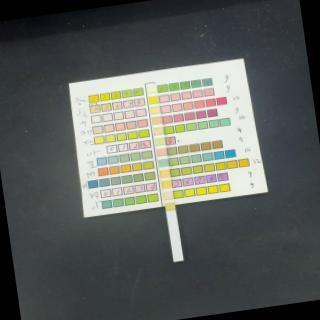mark: (148, 96, 159, 104), (151, 117, 162, 125), (152, 128, 163, 136), (154, 138, 165, 146), (160, 181, 170, 189), (156, 149, 167, 156), (157, 160, 168, 167), (160, 170, 169, 178), (163, 192, 172, 200), (147, 86, 157, 93), (166, 203, 174, 211), (150, 108, 160, 114)
